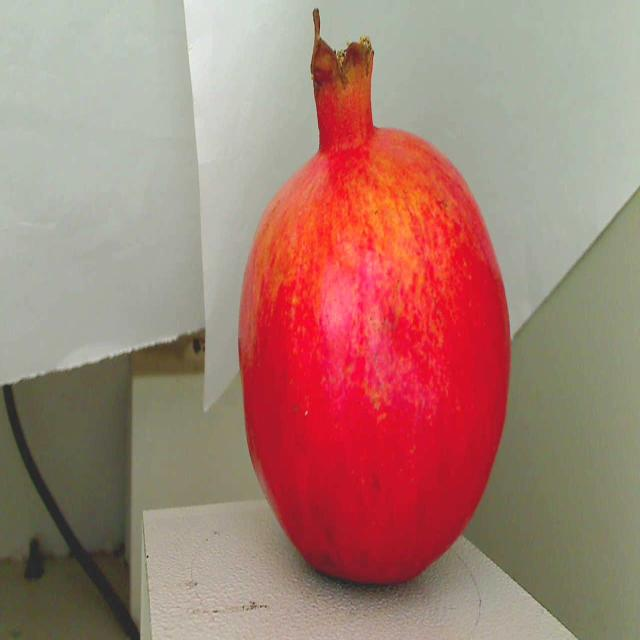pomegranate: (228, 6, 520, 596)
